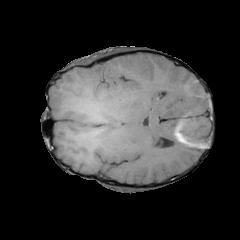glioma: (79, 66, 128, 157)
